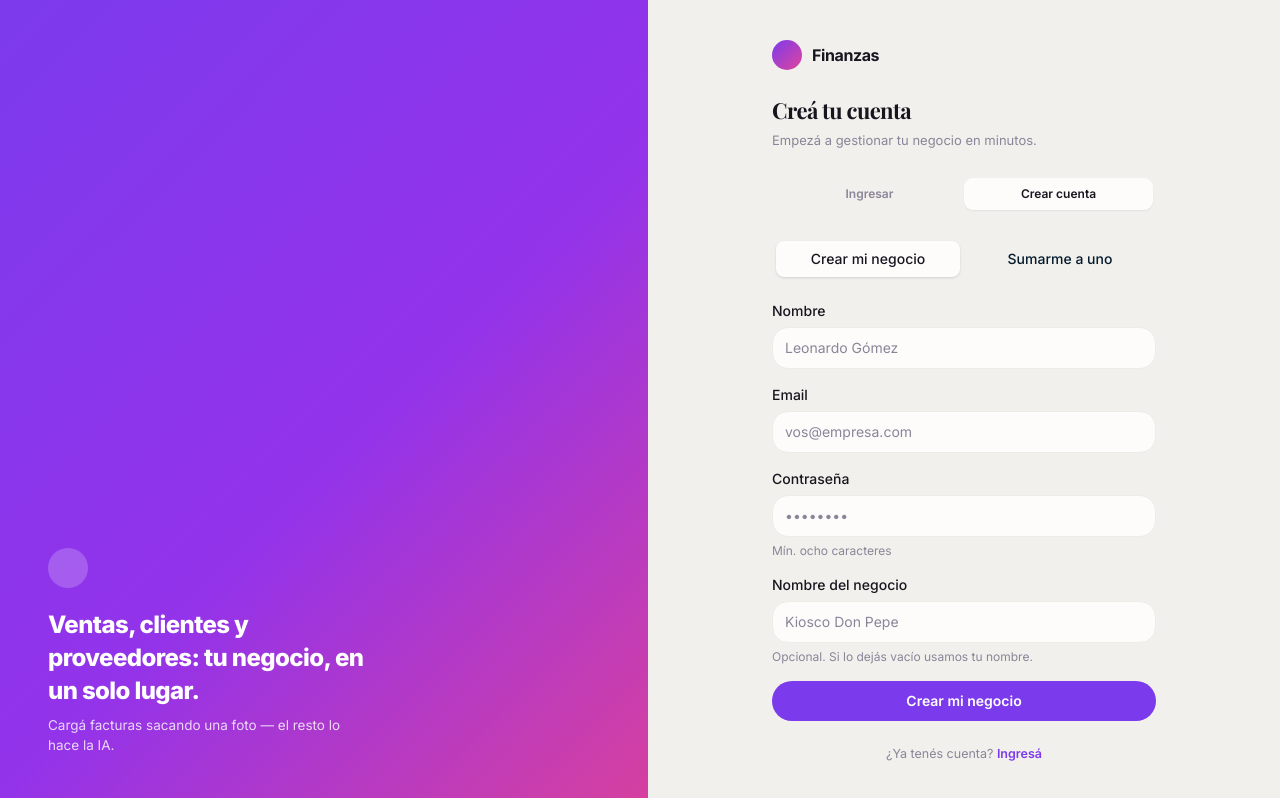
RegisterPage › shows email-in-use message when backend returns duplicate error
This screenshot has width=1280, height=798.
In the field labelled "Email": [964, 432] box left=772, top=410, right=1156, bottom=452, type "dup@t.com"
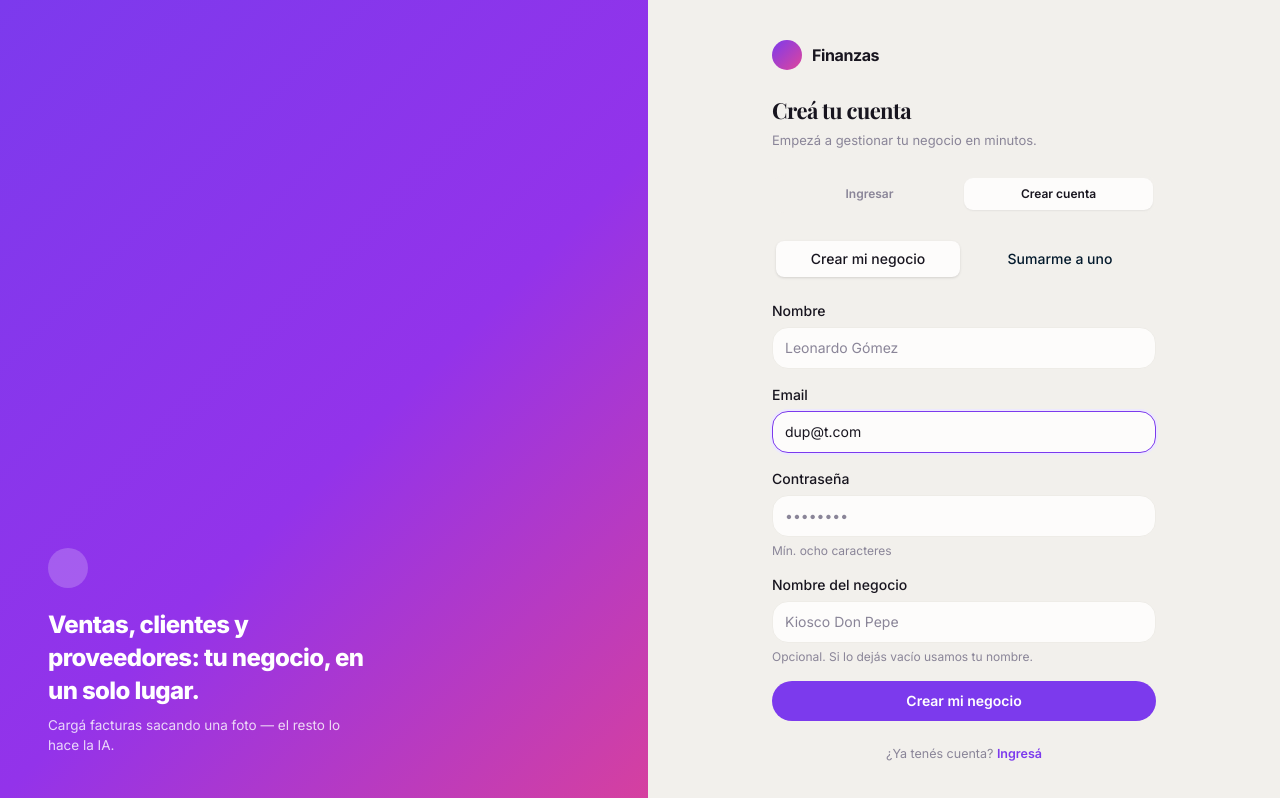
In the field labelled "Nombre": [964, 348] box left=772, top=326, right=1156, bottom=368, type "Dup"
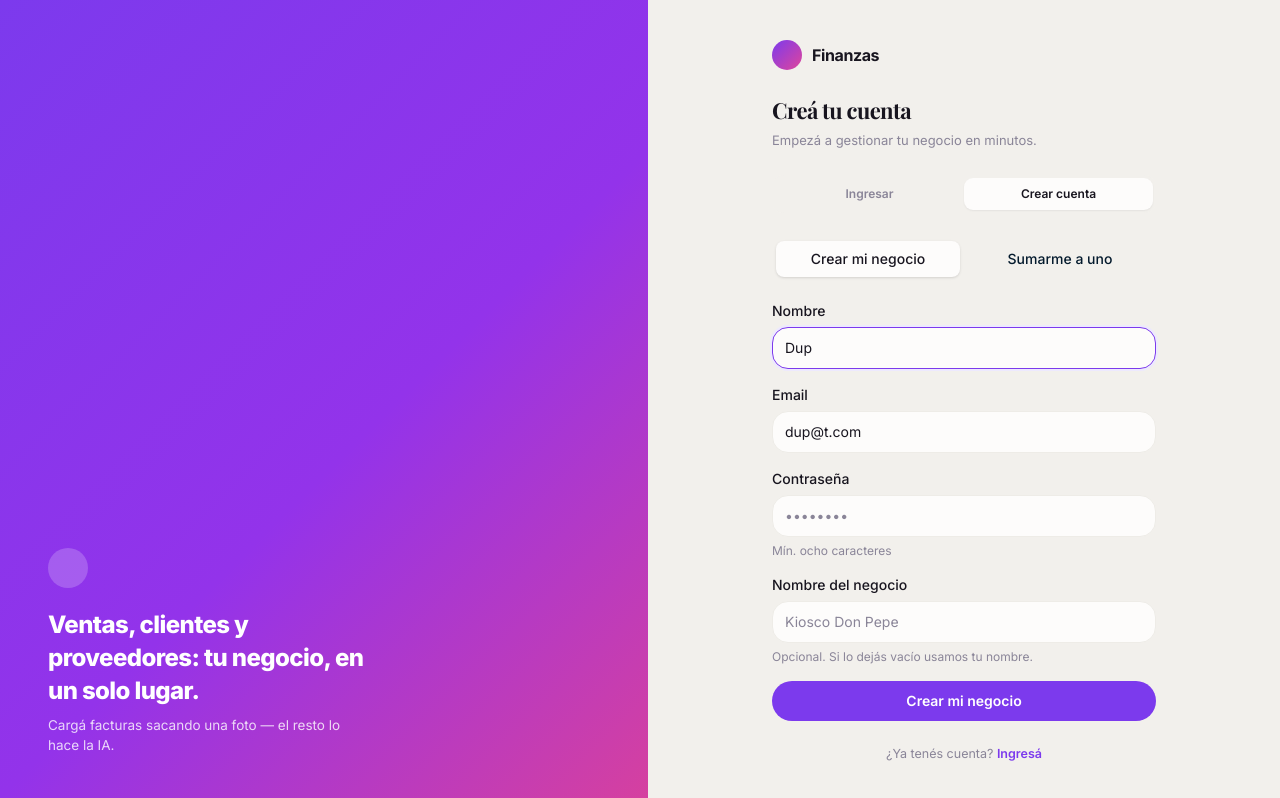
In the password field labelled "Contraseña": [964, 516] box left=772, top=494, right=1156, bottom=536, type "securepassword"
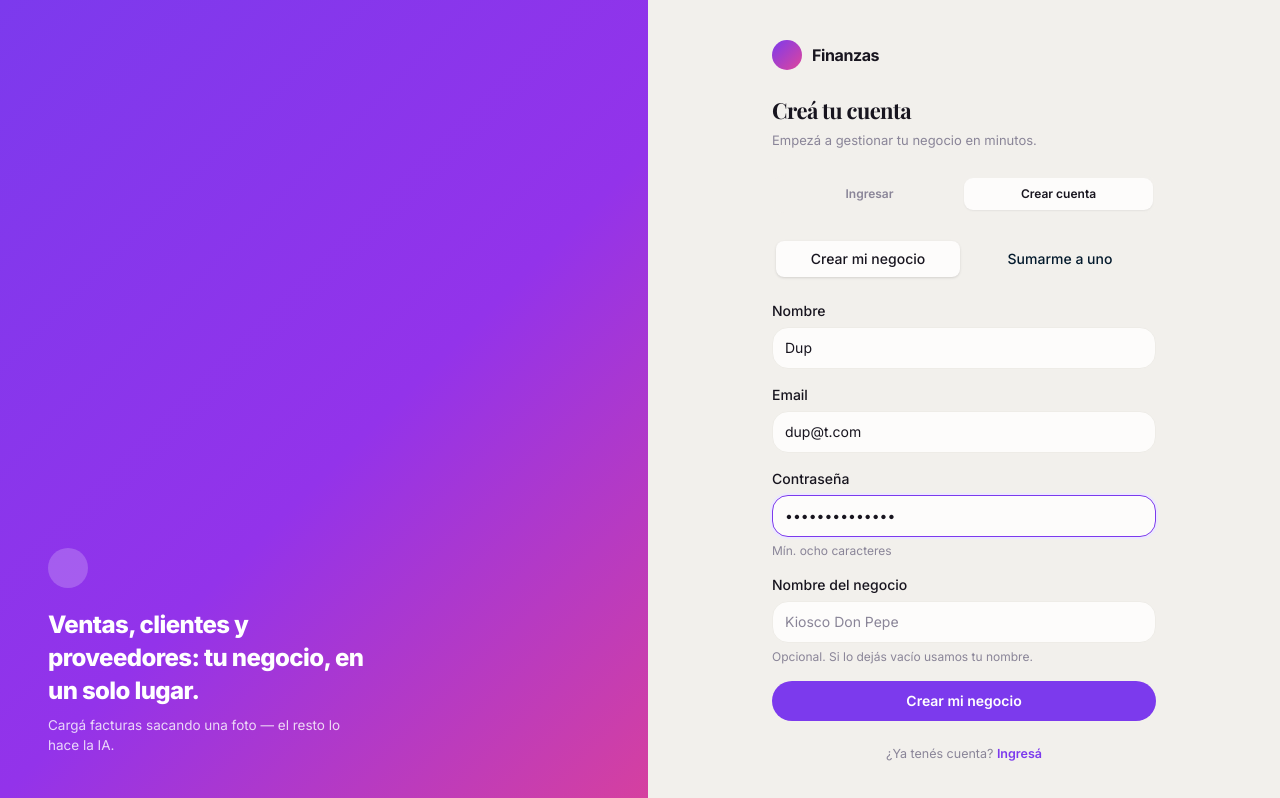
Click the button "Crear mi negocio": [964, 700] box left=772, top=680, right=1156, bottom=720
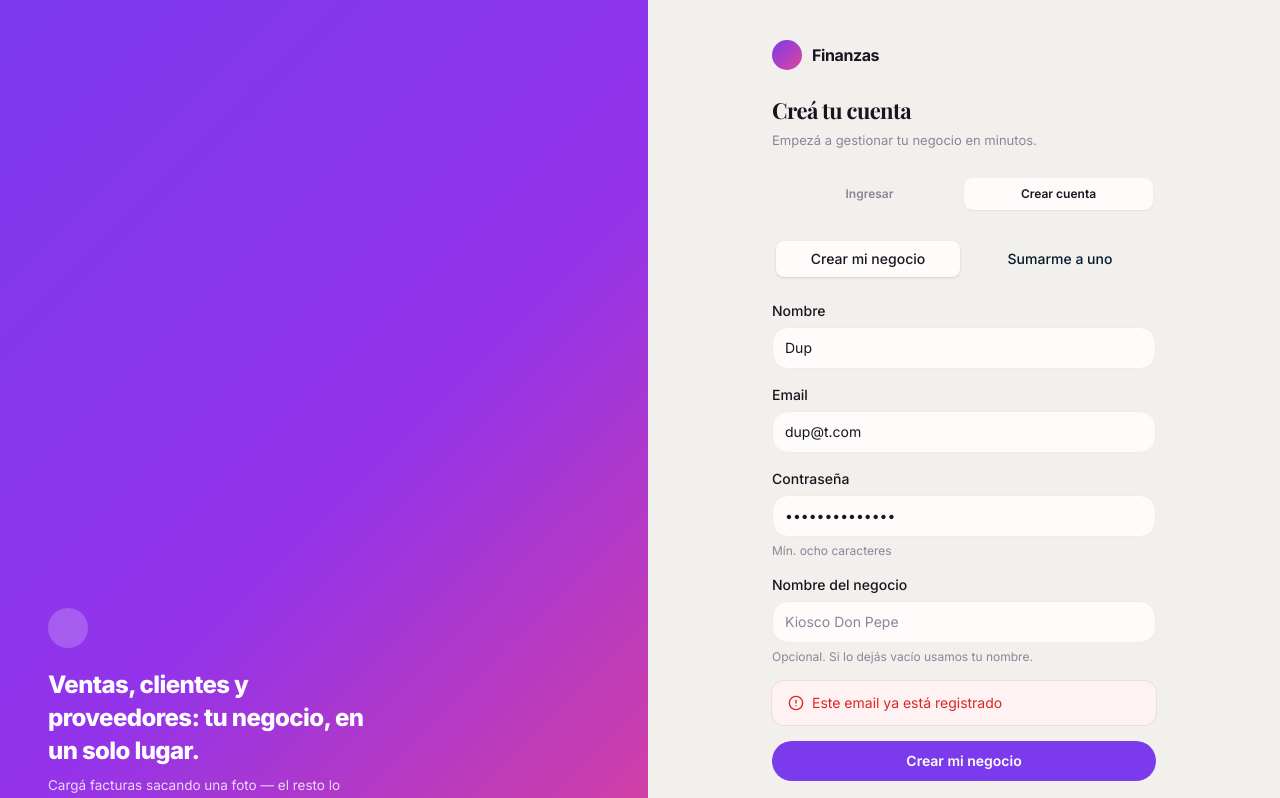
Now the text "Este email ya está registrado" is shown, box left=772, top=680, right=1156, bottom=724
